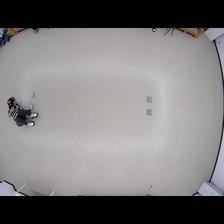fall: (5, 95, 37, 129)
